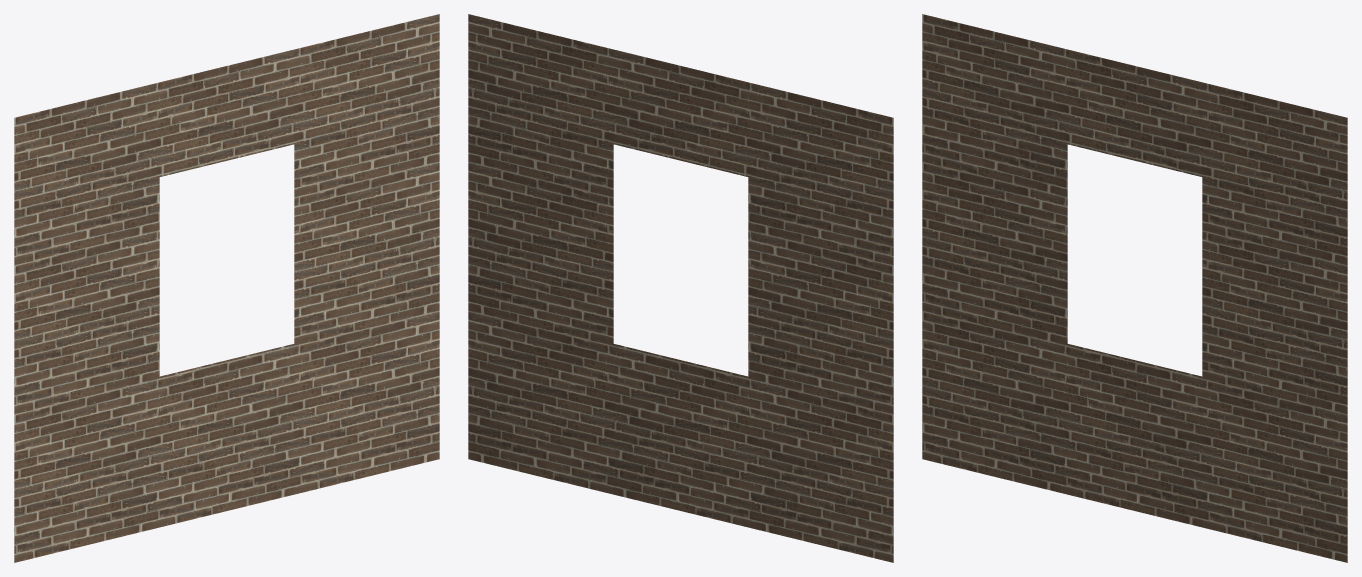
Rendered from wallpaper_011.fbx.
3 views of the same model, side by side, from view 1: azimuth 30°, elevation 25°; view 2: azimuth 150°, elevation 25°; view 3: azimuth 330°, elevation 25° (orthographic).
Parts seen in each view (by area): view 1: wallpaper_011; view 2: wallpaper_011; view 3: wallpaper_011.
Part boxes in pixels (bbox=[...]): wallpaper_011: bbox=[14, 14, 439, 562]; wallpaper_011: bbox=[468, 14, 893, 562]; wallpaper_011: bbox=[922, 14, 1347, 562].
Bounding box in the file's own units: 400 × 4.77e-05 × 400.
